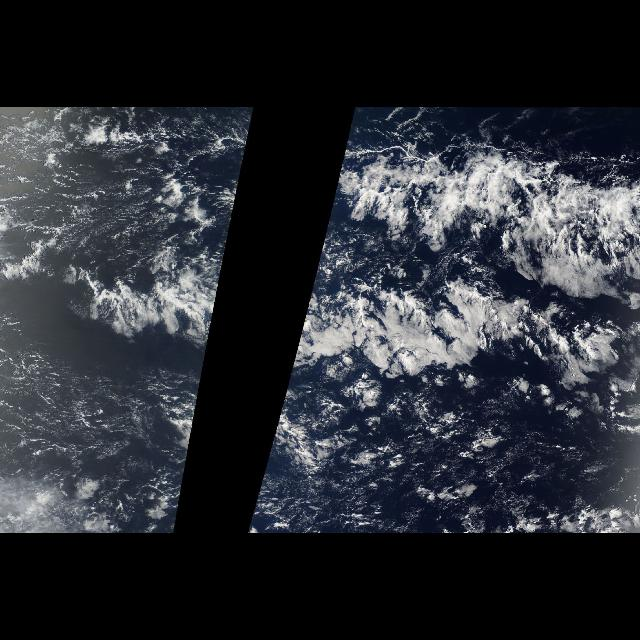Sugar: (289, 404, 639, 534)
